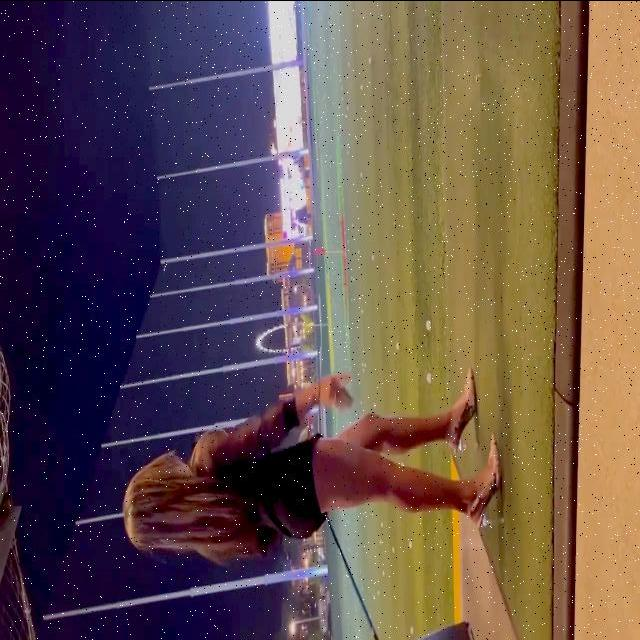ClubHandle: (296, 420, 379, 640)
ClubHead: (298, 423, 312, 443)
